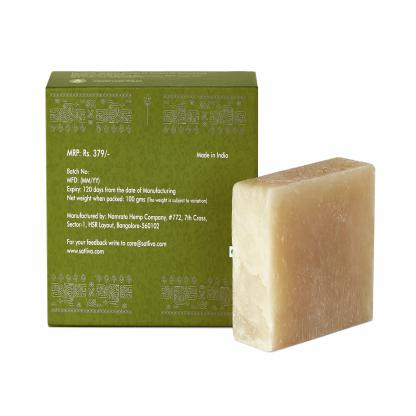soap: (229, 152, 388, 356)
